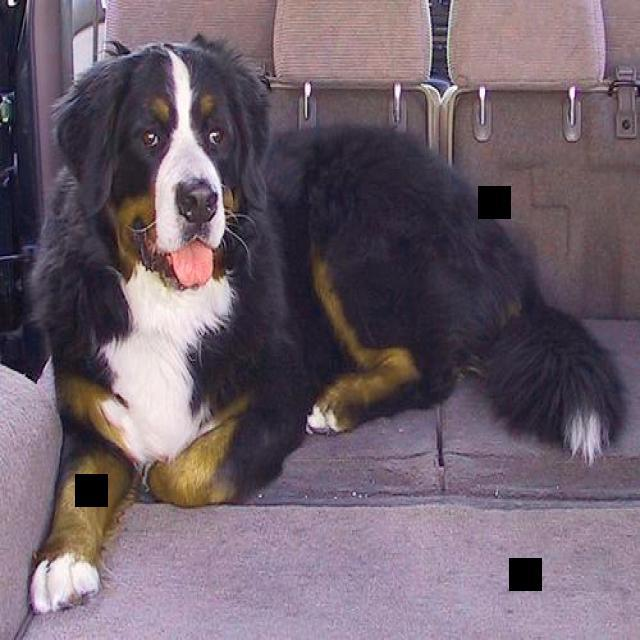adult_dog: (24, 39, 627, 616)
